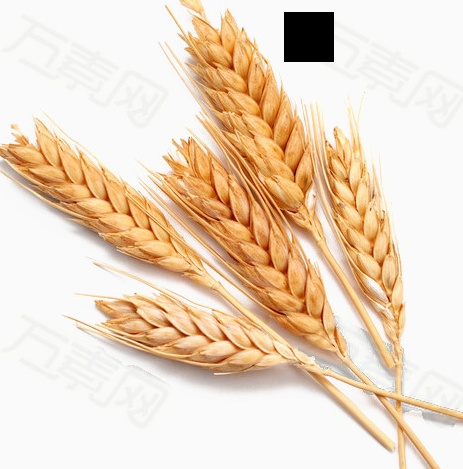wheat: (174, 1, 359, 304), (2, 114, 252, 314), (179, 147, 367, 380), (302, 115, 423, 379), (41, 279, 324, 371)
